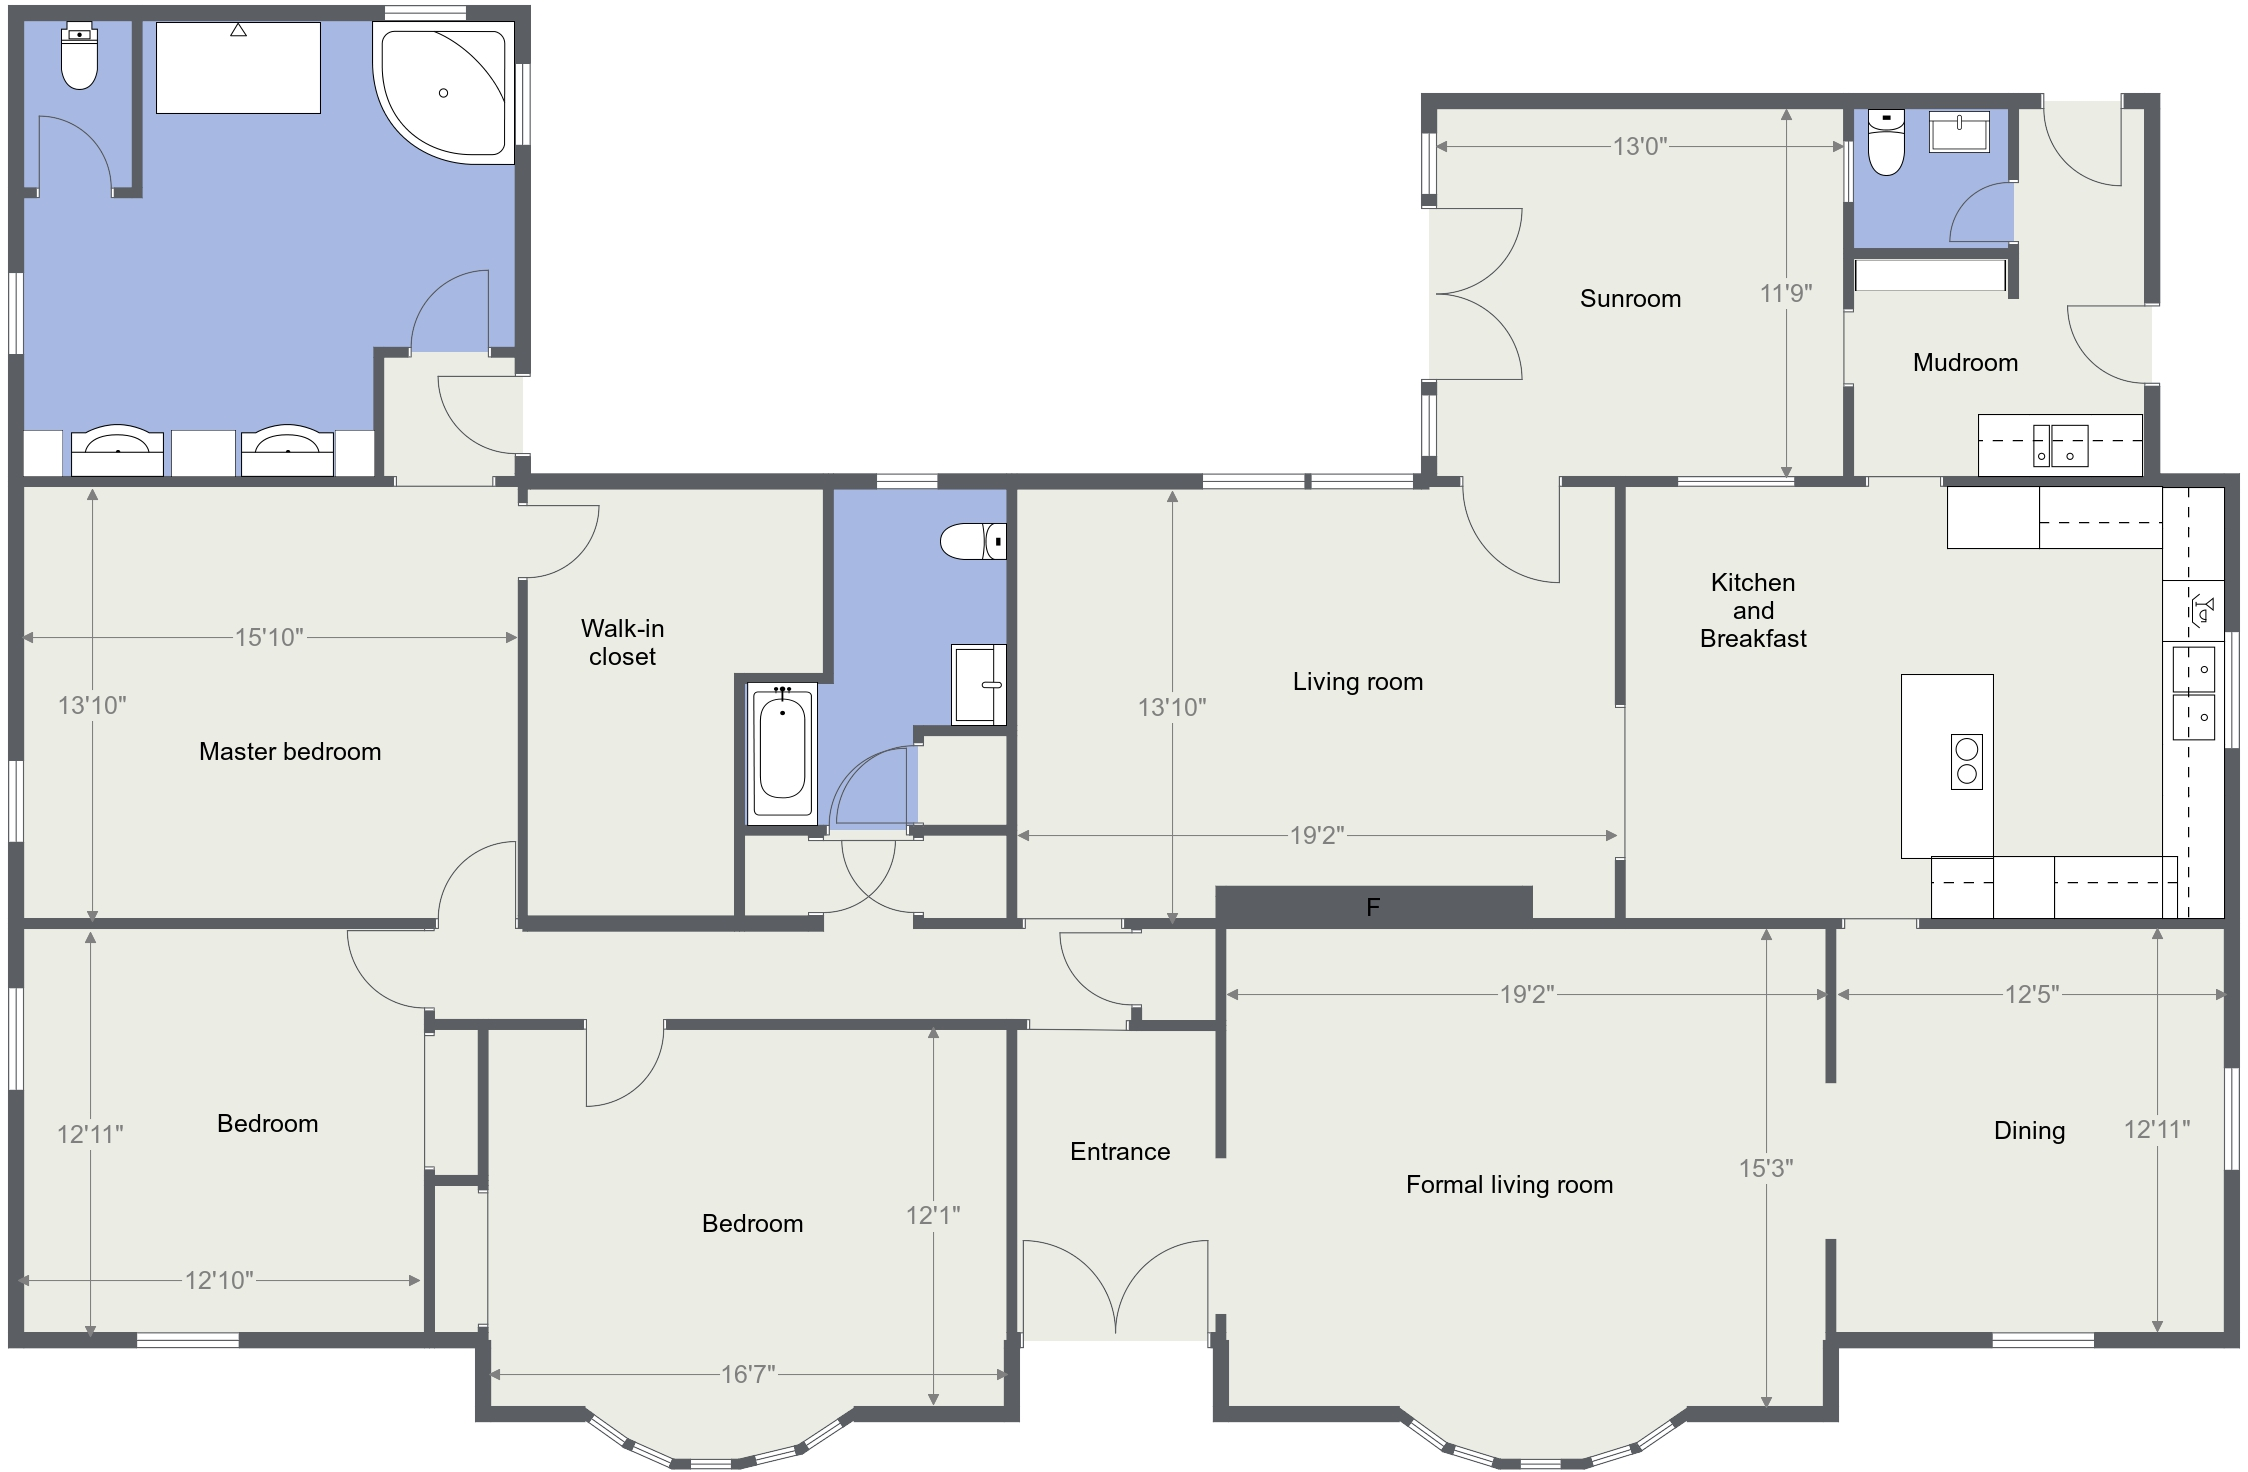door: (1018, 1221, 1220, 1326), (1442, 186, 1535, 398), (1455, 486, 1575, 598), (2035, 289, 2141, 398), (2030, 108, 2133, 191), (407, 260, 499, 337), (575, 1040, 667, 1117), (330, 925, 422, 1002), (430, 833, 522, 910), (535, 494, 627, 572), (1053, 923, 1123, 1007)
room: (1204, 887, 1847, 1472), (1599, 470, 2248, 938), (466, 1009, 1020, 1472), (7, 8, 534, 494), (504, 458, 1025, 935), (2, 468, 534, 931), (2, 912, 494, 1391), (1814, 902, 2245, 1364), (1833, 89, 2028, 266)
window: (1195, 468, 1430, 498), (494, 56, 550, 158), (126, 1319, 245, 1359), (2, 982, 38, 1102), (1984, 1322, 2102, 1359), (2, 264, 43, 363), (2218, 628, 2245, 751), (5, 749, 33, 858), (1672, 471, 1801, 494), (2218, 1061, 2245, 1175), (374, 2, 476, 28), (869, 462, 939, 494), (1415, 383, 1442, 465), (1419, 122, 1440, 202)
